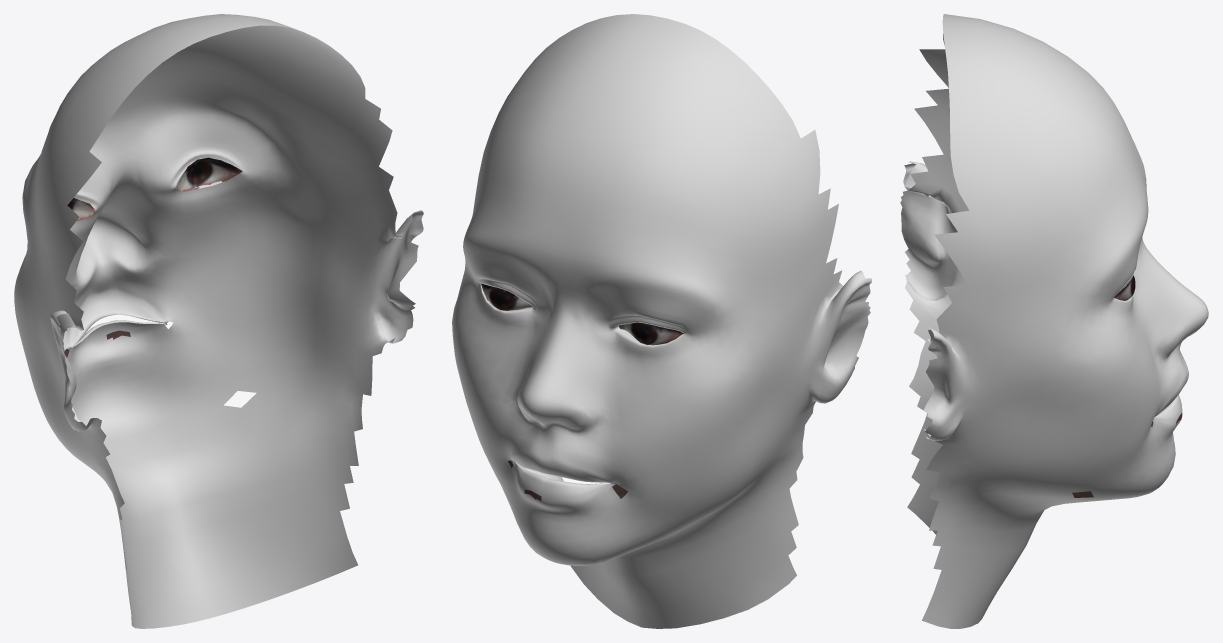
Rendered from bella_1.glb.
3 views of the same model, side by side, from view 1: azimuth 30°, elevation 25°; view 2: azimuth 150°, elevation 25°; view 3: azimuth 270°, elevation 25° (orthographic). The views are drawn at different scales.
Parts seen in each view (by area): view 1: FaceGen; view 2: FaceGen; view 3: FaceGen.
Part boxes in pixels (x1=…): FaceGen: x1=14, y1=14, x2=423, y2=628; FaceGen: x1=452, y1=14, x2=871, y2=628; FaceGen: x1=900, y1=14, x2=1208, y2=628.
Bounding box in the file's own units: 0.9432 × 1.43 × 0.6886.
Materials: 3 (2 with a texture image).
